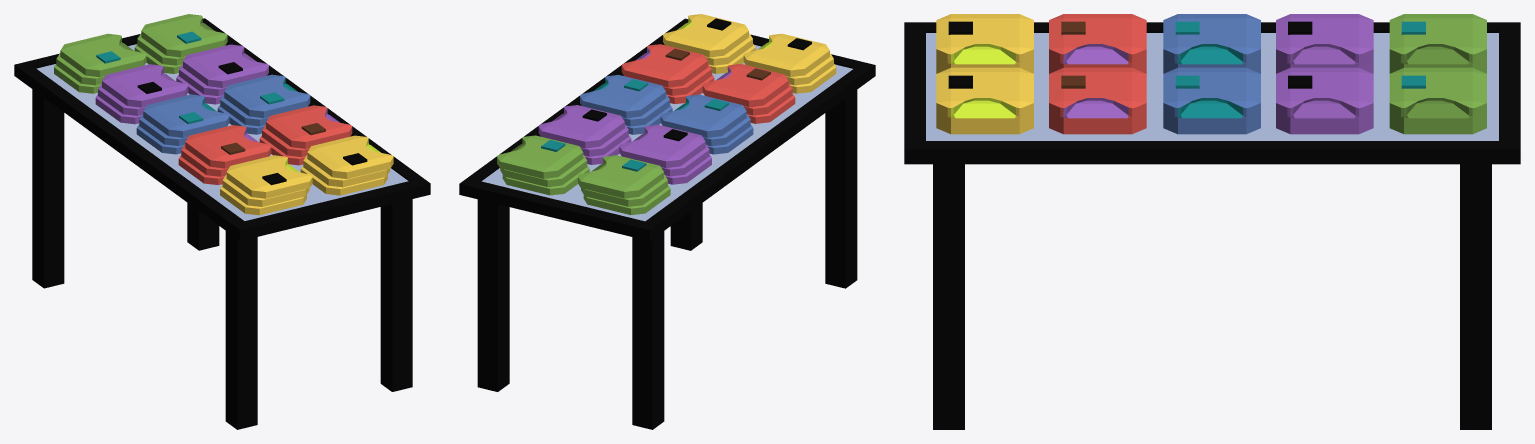
Rendered from table_with_shirts_no_sign.fbx.
3 views of the same model, side by side, from view 1: azimuth 30°, elevation 25°; view 2: azimuth 150°, elevation 25°; view 3: azimuth 270°, elevation 25° (orthographic). The views are drawn at different scales.
Parts seen in each view (by area): view 1: Text; view 2: Text; view 3: Text.
Boxes of the visible parts, x1=… form: Text: x1=14, y1=14, x2=430, y2=429; Text: x1=459, y1=14, x2=875, y2=429; Text: x1=904, y1=14, x2=1520, y2=429.
Bounding box in the file's own units: 253 × 295 × 519.
